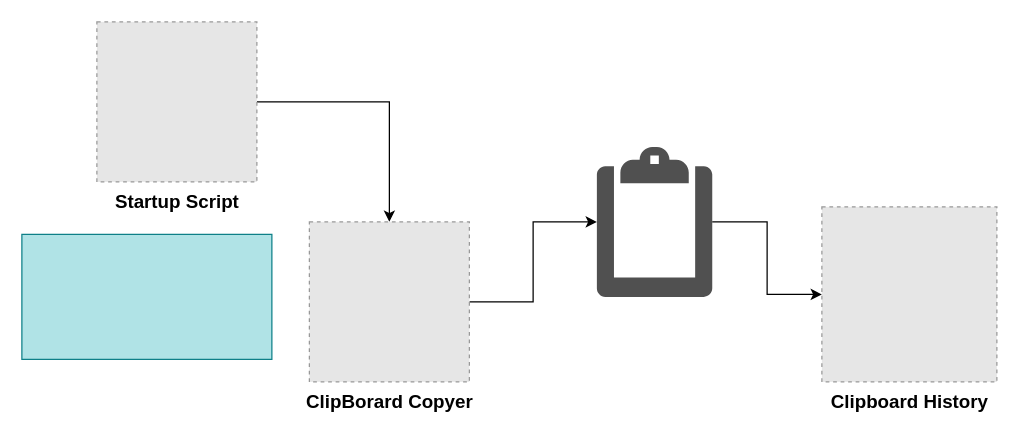
Image size: 1019x435. Some labels were removed from this diagram. Grey dashed boxes stand in for pictures. Here are the shapes that lost their labels. From the top down, the centre of each, then its label:
point (654, 221): ClipBoard Monitoring
point (146, 296): Move ClipBorad.exe to Target PC And Add To Startup Register
